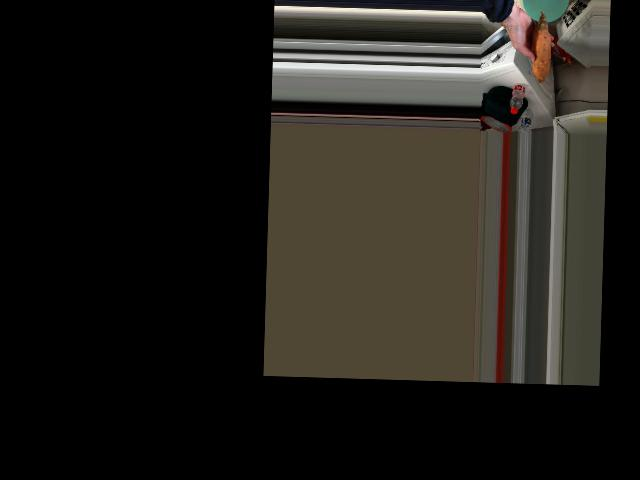sweet_potato: (532, 21, 548, 73)
